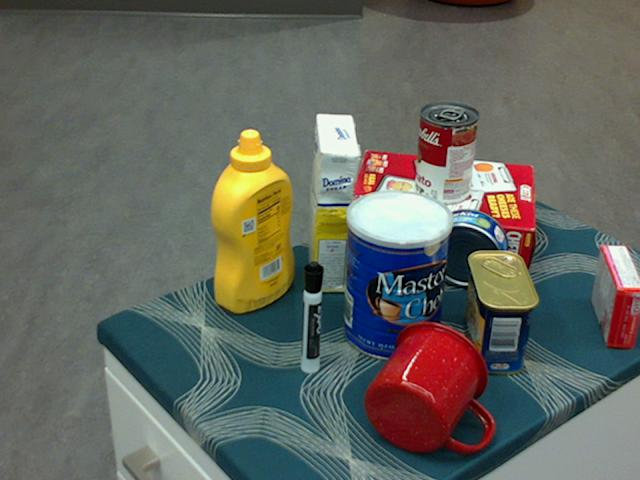cracker_box: (345, 152, 534, 271)
gelatin_box: (590, 245, 639, 349)
large_marker: (299, 261, 322, 375)
master_chef_can: (343, 189, 454, 362)
mug: (365, 320, 491, 453)
mustard_bottle: (209, 129, 294, 314)
potted_meat_can: (463, 251, 540, 374)
sugar_box: (307, 114, 358, 295)
tomato_soup_can: (415, 103, 479, 206)
tuna_fish_can: (428, 208, 508, 287)
